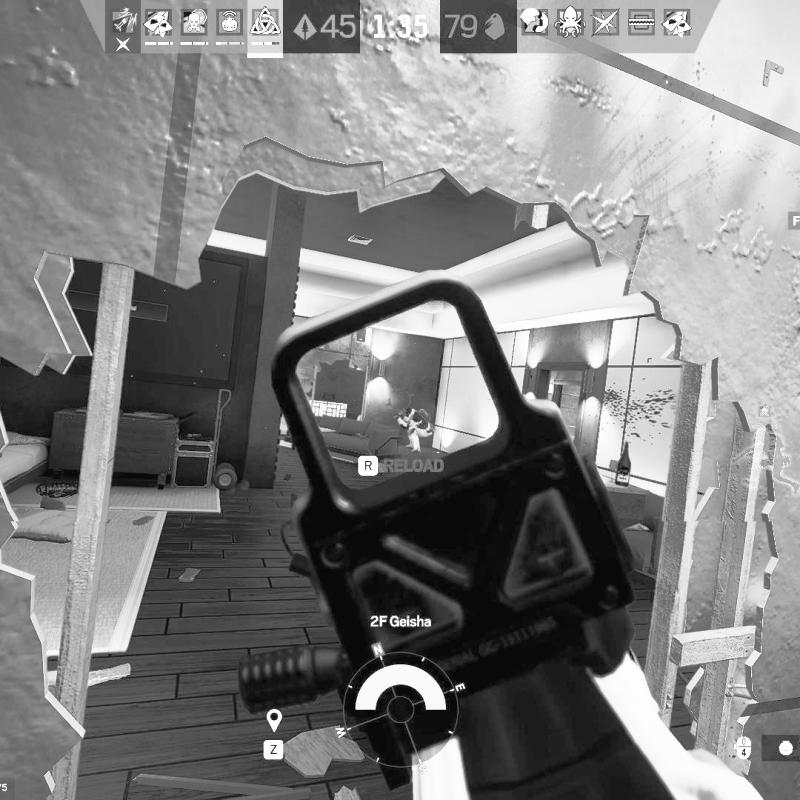Character: (389, 405, 436, 455)
Head: (403, 406, 413, 416)
